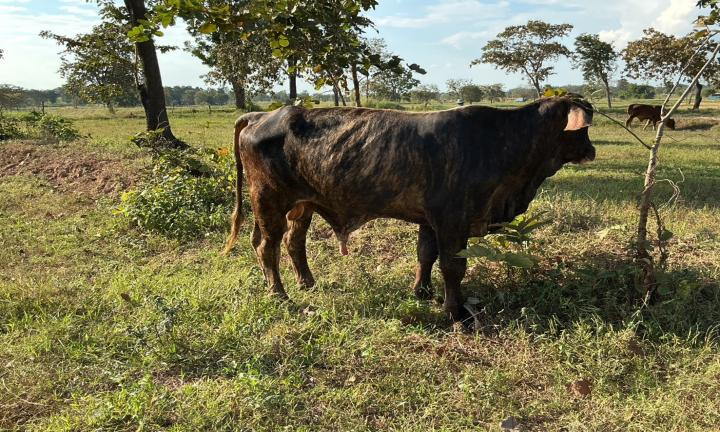Charolais: (234, 97, 595, 319)
